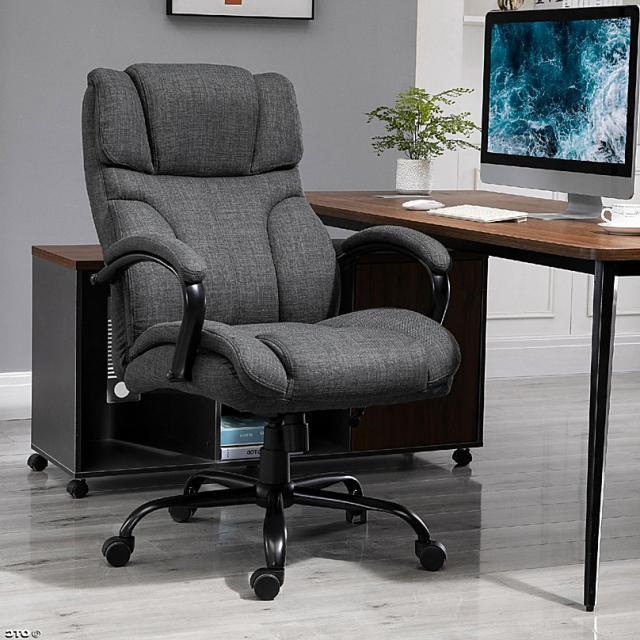chair: (45, 51, 469, 605)
table: (304, 192, 640, 611), (27, 247, 494, 476)
